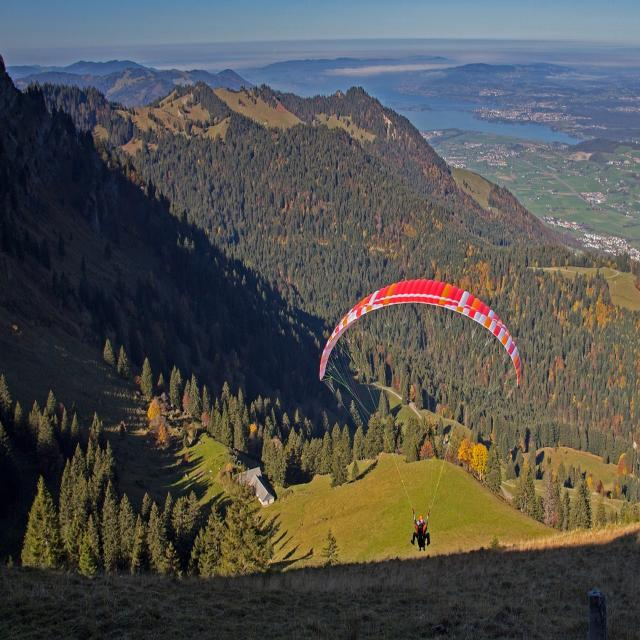paraglider: (321, 270, 530, 400)
